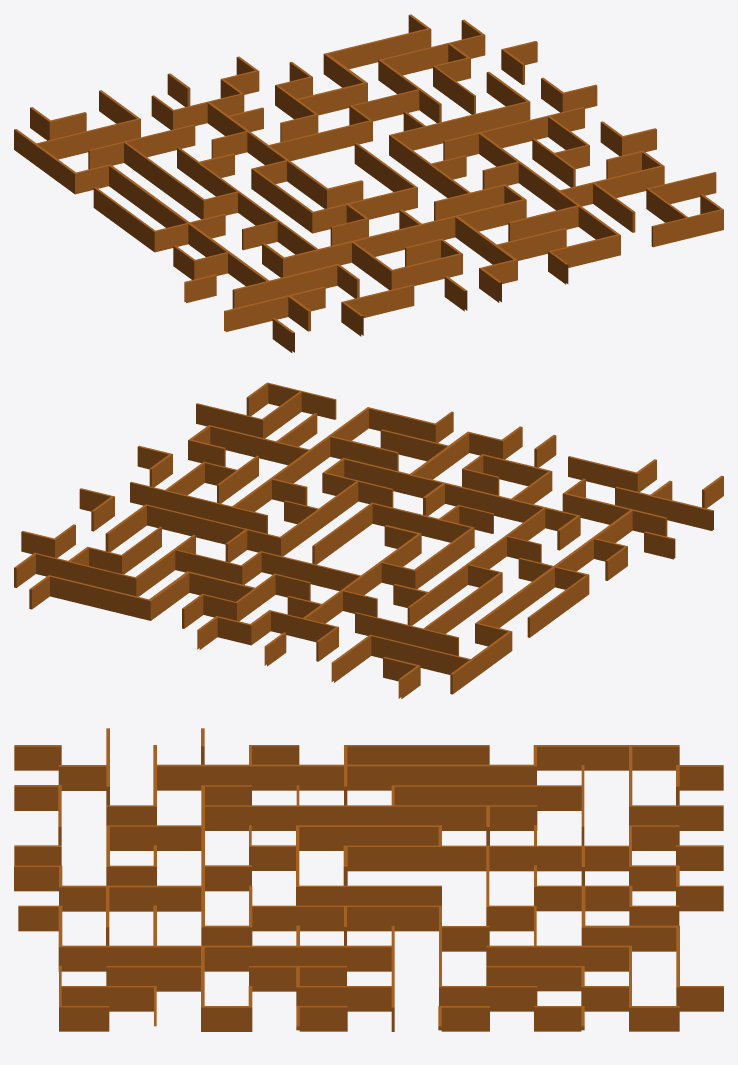
The model's file is indoorwalls.fbx.
3 views of the same model, one above another, from view 1: azimuth 30°, elevation 25°; view 2: azimuth 150°, elevation 25°; view 3: azimuth 270°, elevation 25° (orthographic). The views are drawn at different scales.
Parts seen in each view (by area): view 1: indoor walls; view 2: indoor walls; view 3: indoor walls.
Part boxes in pixels (bbox=[...]): indoor walls: bbox=[14, 14, 723, 352]; indoor walls: bbox=[14, 382, 723, 699]; indoor walls: bbox=[14, 728, 723, 1031].
Bounding box in the file's own units: 3950 × 151 × 3979.
